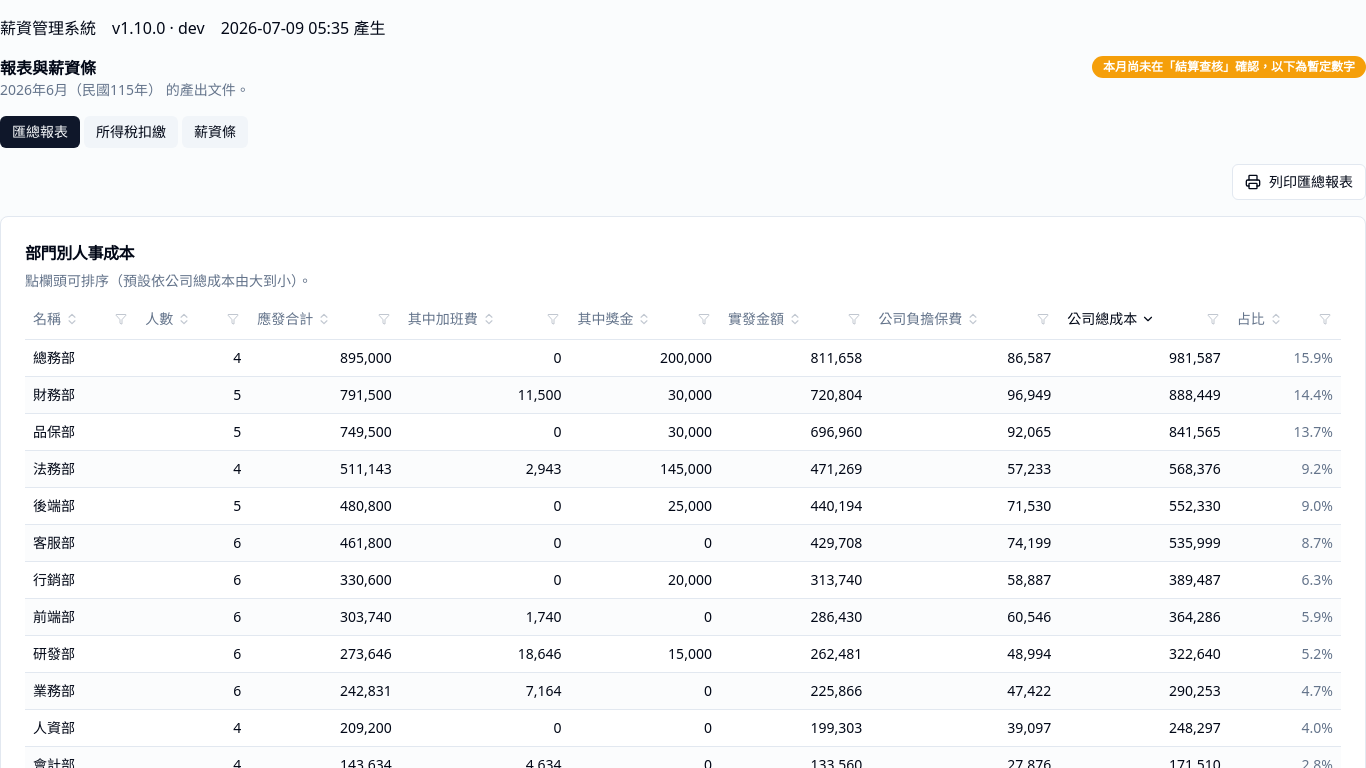
Test: 薪資條：單筆與批次動作 › 切到薪資條分頁 → 顯示單筆與批次動作鈕；薪資條內容（PayslipCard）正常渲染
Click the button "薪資條".
click(215, 132)  # box left=182, top=116, right=248, bottom=148
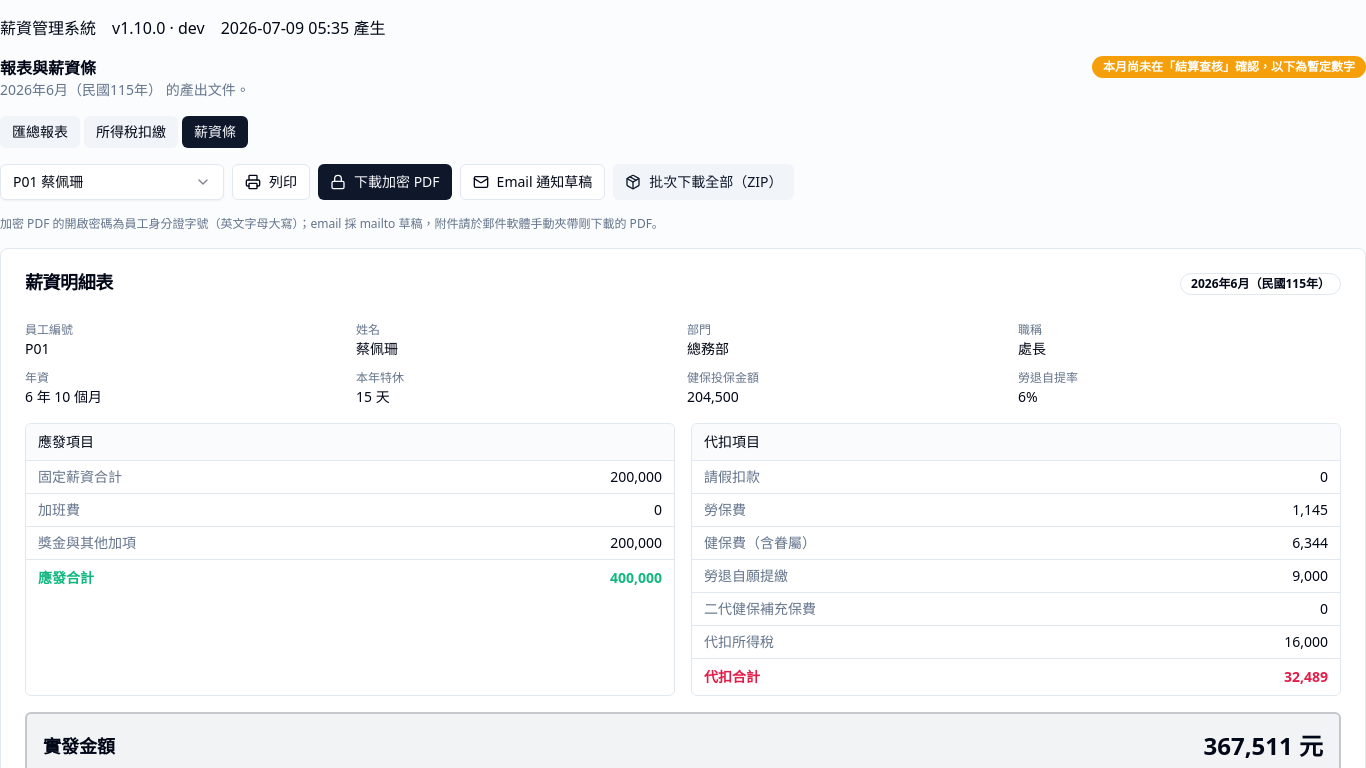
Expected: the button "下載加密 PDF" is shown, left=318, top=164, right=452, bottom=200
Expected: the button "Email 通知草稿" is shown, left=460, top=164, right=605, bottom=200
Expected: the button "批次下載全部（ZIP）" is enabled, left=613, top=164, right=794, bottom=200
